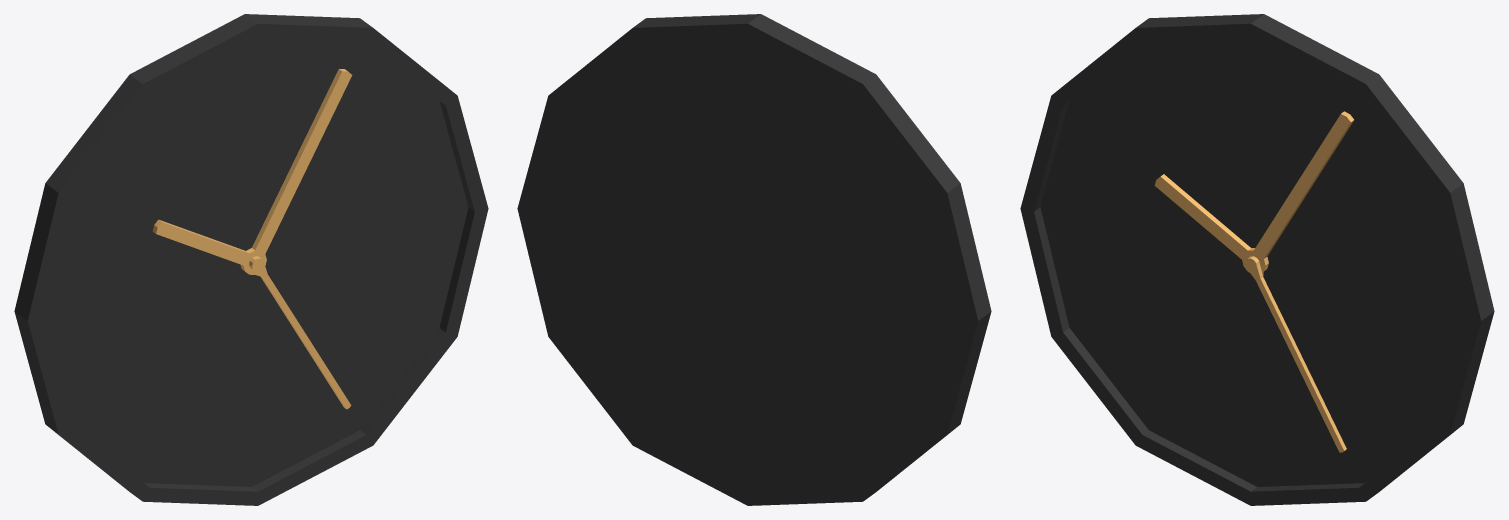
The model's file is Wallclock.fbx.
3 views of the same model, side by side, from view 1: azimuth 30°, elevation 25°; view 2: azimuth 150°, elevation 25°; view 3: azimuth 330°, elevation 25° (orthographic).
Parts seen in each view (by area): view 1: Wallclock; view 2: Wallclock; view 3: Wallclock.
Boxes of the visible parts, <box> form: Wallclock: <box>14,14,488,505</box>; Wallclock: <box>517,14,991,505</box>; Wallclock: <box>1020,14,1494,505</box>.
Bounding box in the file's own units: 0.312 × 0.312 × 0.0157.
